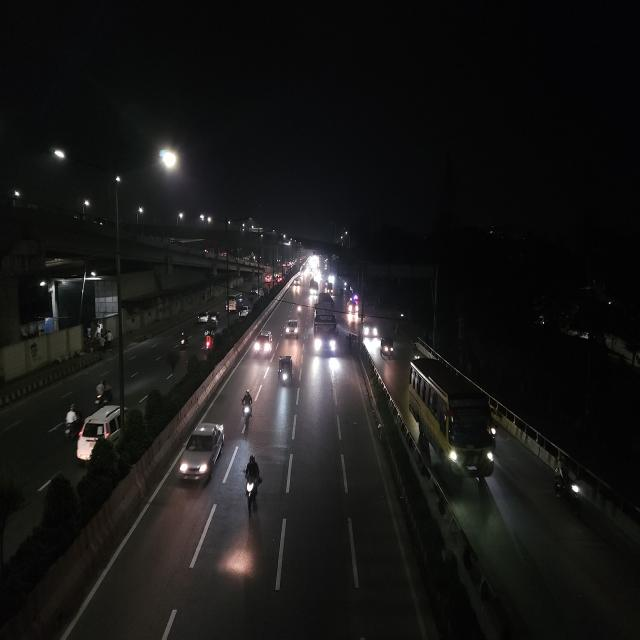bus: (406, 357, 500, 486), (311, 294, 339, 358), (226, 295, 240, 313)
car: (173, 419, 226, 493), (68, 402, 128, 465), (251, 327, 275, 360), (195, 309, 219, 327), (361, 316, 380, 338), (284, 317, 300, 338), (292, 277, 302, 291), (270, 274, 280, 285)
cng: (275, 352, 295, 390), (379, 335, 395, 360)
motorcycle: (550, 463, 584, 511), (240, 451, 266, 510), (238, 385, 256, 433), (94, 374, 116, 408), (176, 328, 191, 352), (201, 328, 215, 352), (346, 332, 354, 352), (296, 302, 303, 317)
